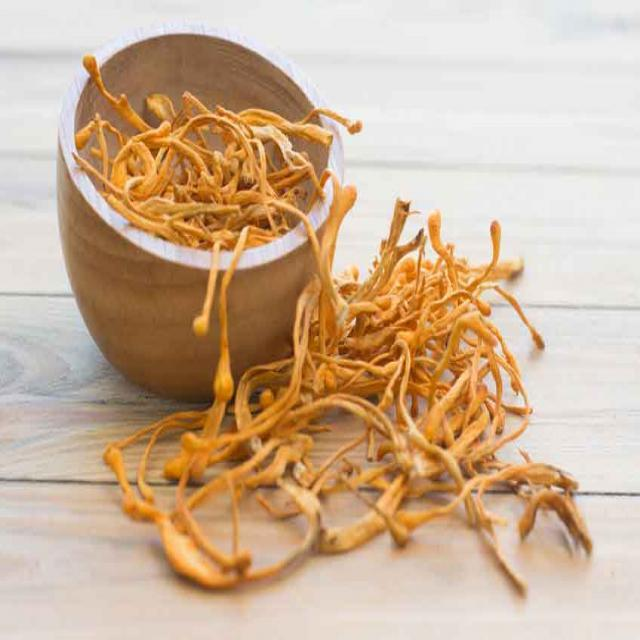Cordyceps militaris: (118, 188, 591, 603), (77, 55, 355, 351)
